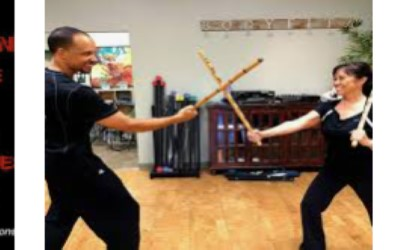baston_e: (202, 50, 257, 140), (196, 57, 257, 110)
baston_v: (253, 50, 267, 66), (253, 136, 263, 150), (193, 45, 203, 55)
